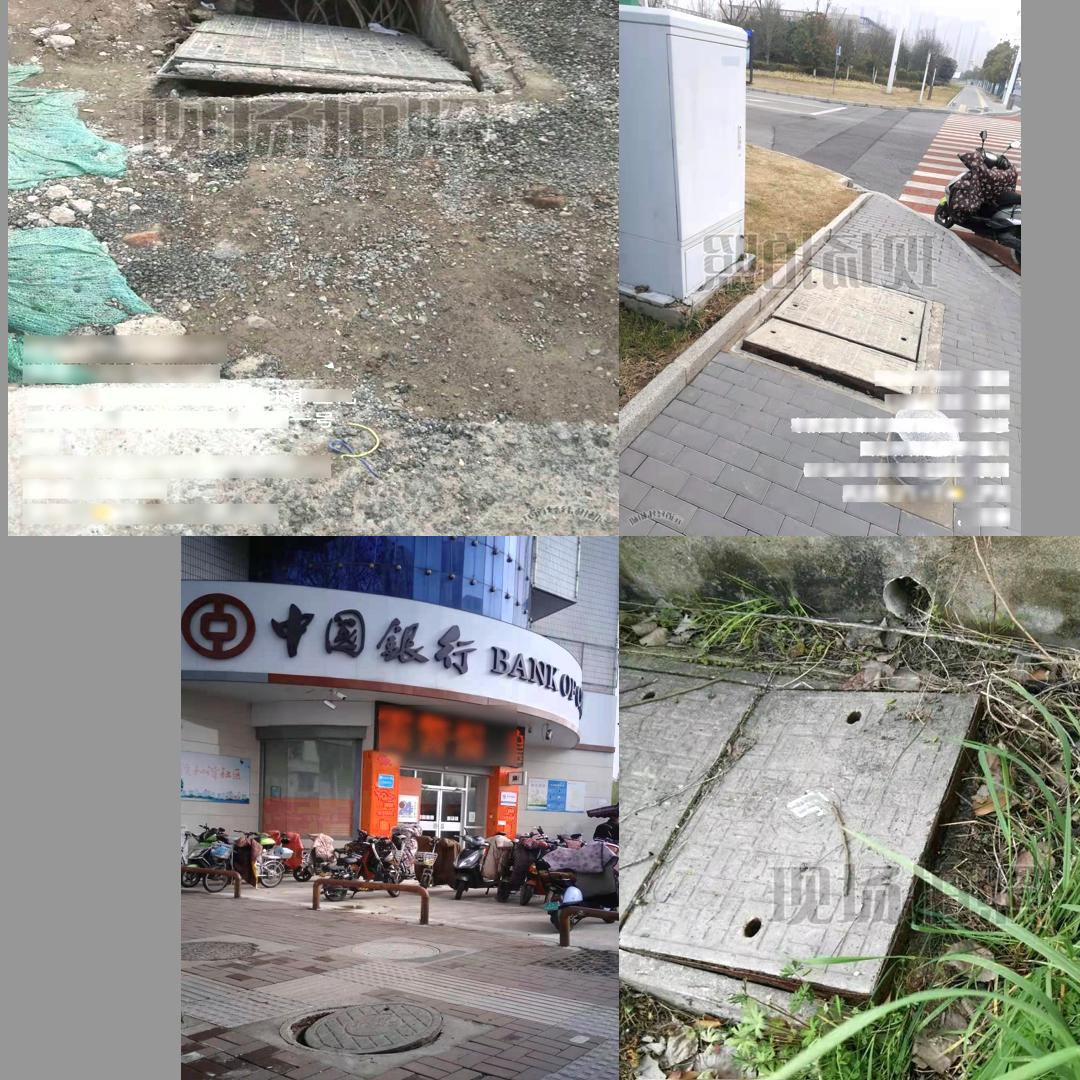good: (351, 941, 440, 963), (183, 940, 260, 959)
uncovered: (620, 654, 992, 1026), (153, 0, 525, 104), (736, 267, 932, 404), (276, 996, 448, 1055)
